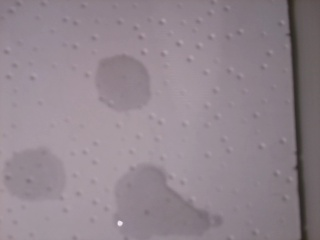Water_detected: (124, 175, 184, 230), (99, 60, 138, 107), (20, 150, 61, 191)
